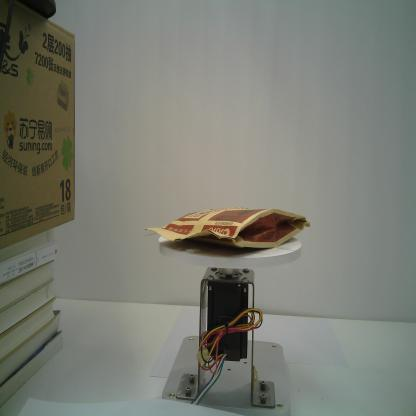Dried Food: (142, 200, 312, 252)
